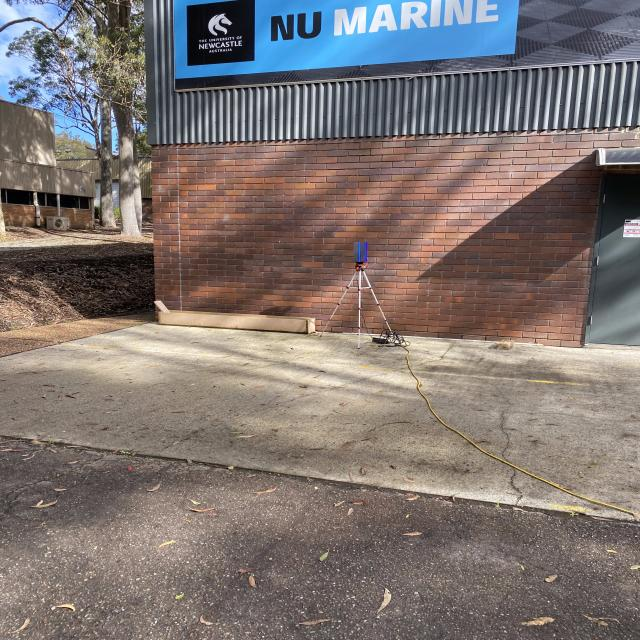matrix: (353, 241, 368, 263)
